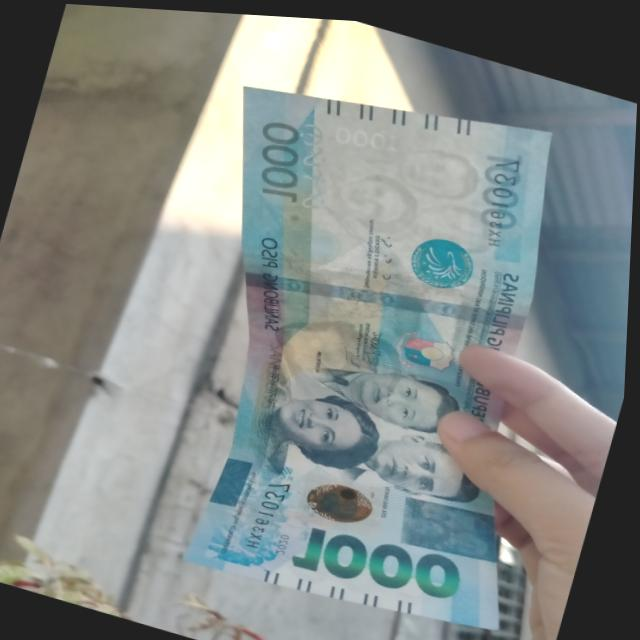concealed_value: (400, 486, 522, 566)
optically_variable_device: (297, 460, 399, 537)
security_thread: (242, 235, 532, 362)
see_through_mark: (280, 105, 362, 223)
serial_number: (243, 464, 302, 553)
value_watermark: (326, 108, 406, 158)
watermark: (318, 112, 523, 272)
